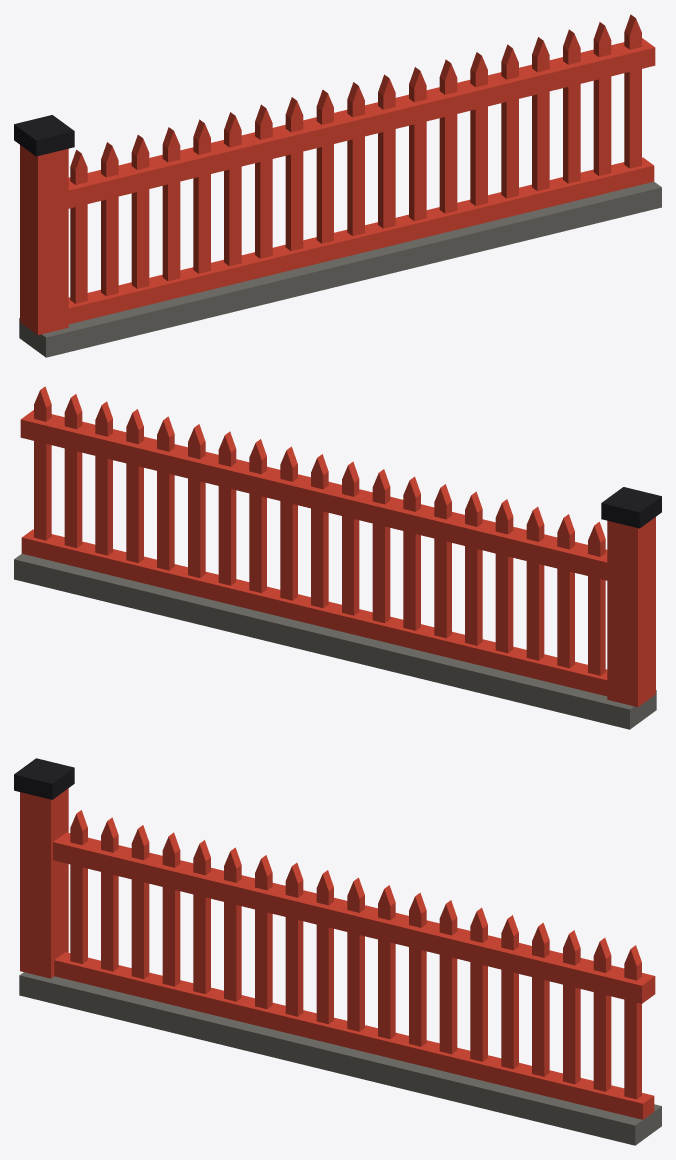
File: shrine-fence.glb
3 views of the same model, one above another, from view 1: azimuth 30°, elevation 25°; view 2: azimuth 150°, elevation 25°; view 3: azimuth 330°, elevation 25° (orthographic).
Parts seen in each view (by area): view 1: ShrineFence_Verm, ShrineFence_Stone, ShrineFence_Black; view 2: ShrineFence_Verm, ShrineFence_Stone, ShrineFence_Black; view 3: ShrineFence_Verm, ShrineFence_Stone, ShrineFence_Black.
Boxes of the visible parts, x1,y1,x2,y2 form: ShrineFence_Verm: [20, 14, 655, 334]; ShrineFence_Stone: [19, 181, 661, 357]; ShrineFence_Black: [14, 115, 74, 156]; ShrineFence_Verm: [20, 386, 655, 706]; ShrineFence_Stone: [14, 553, 656, 729]; ShrineFence_Black: [601, 487, 661, 528]; ShrineFence_Verm: [20, 788, 655, 1119]; ShrineFence_Stone: [19, 972, 661, 1145]; ShrineFence_Black: [14, 758, 74, 799].
Bounding box in the file's own units: 16.2 × 5.4 × 1.2.
